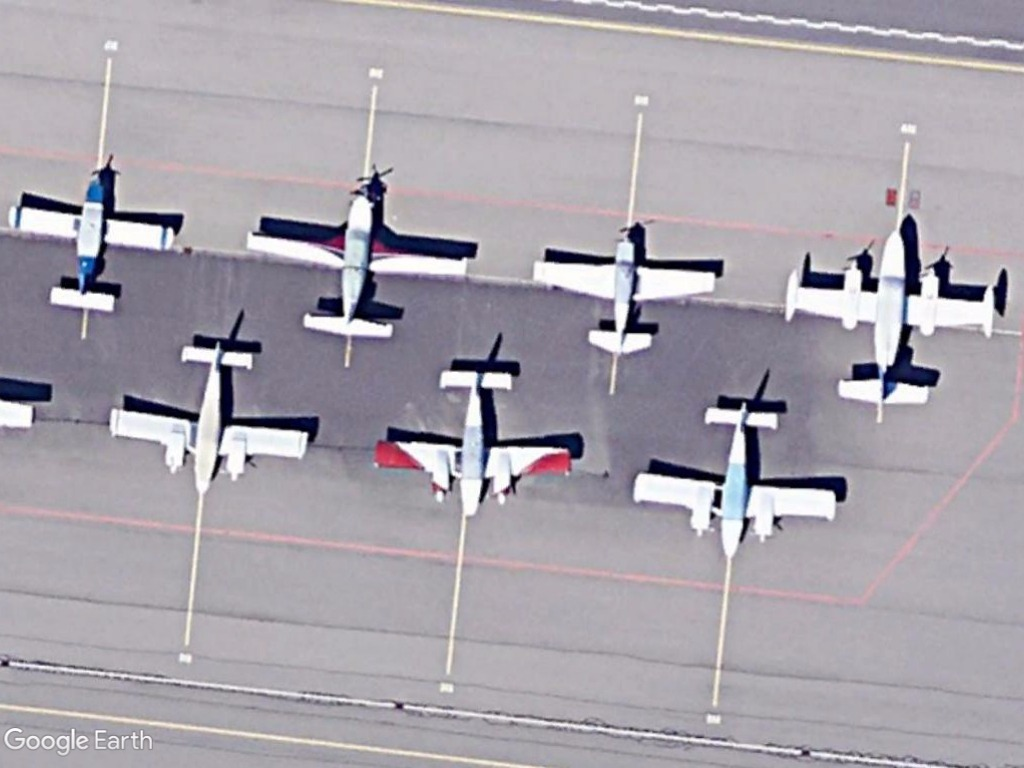propeller: (779, 219, 1004, 420), (627, 392, 845, 566), (108, 333, 315, 501), (370, 362, 577, 527)
trainer: (245, 175, 473, 342), (4, 161, 183, 318), (528, 220, 721, 360)
